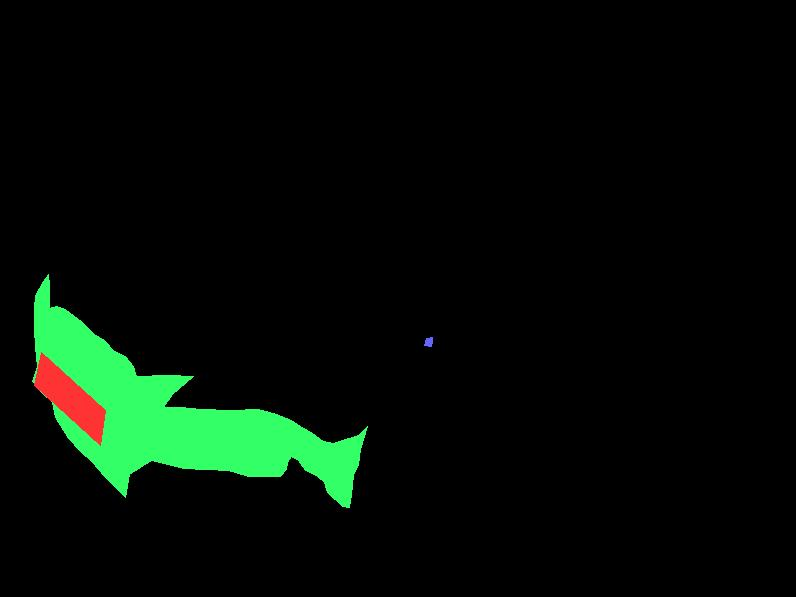Broken part: (32, 274, 367, 507)
Missing part: (34, 352, 105, 445)
Scratch: (424, 337, 432, 346)
